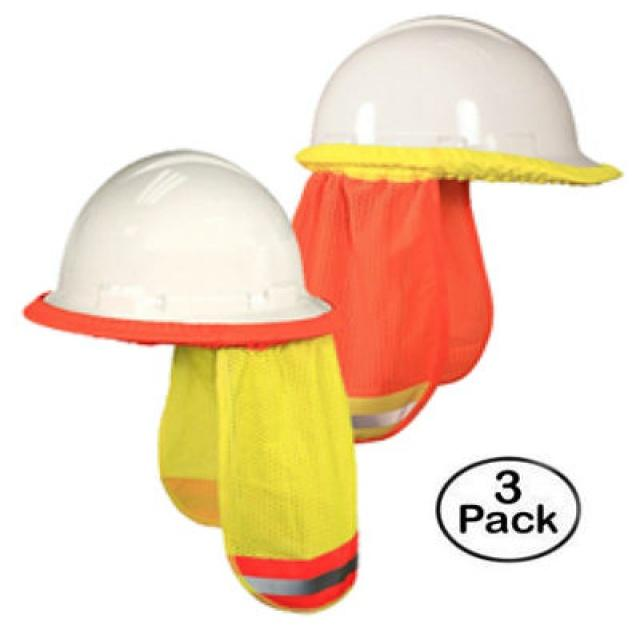helmet: (28, 183, 345, 480), (291, 5, 637, 247)
